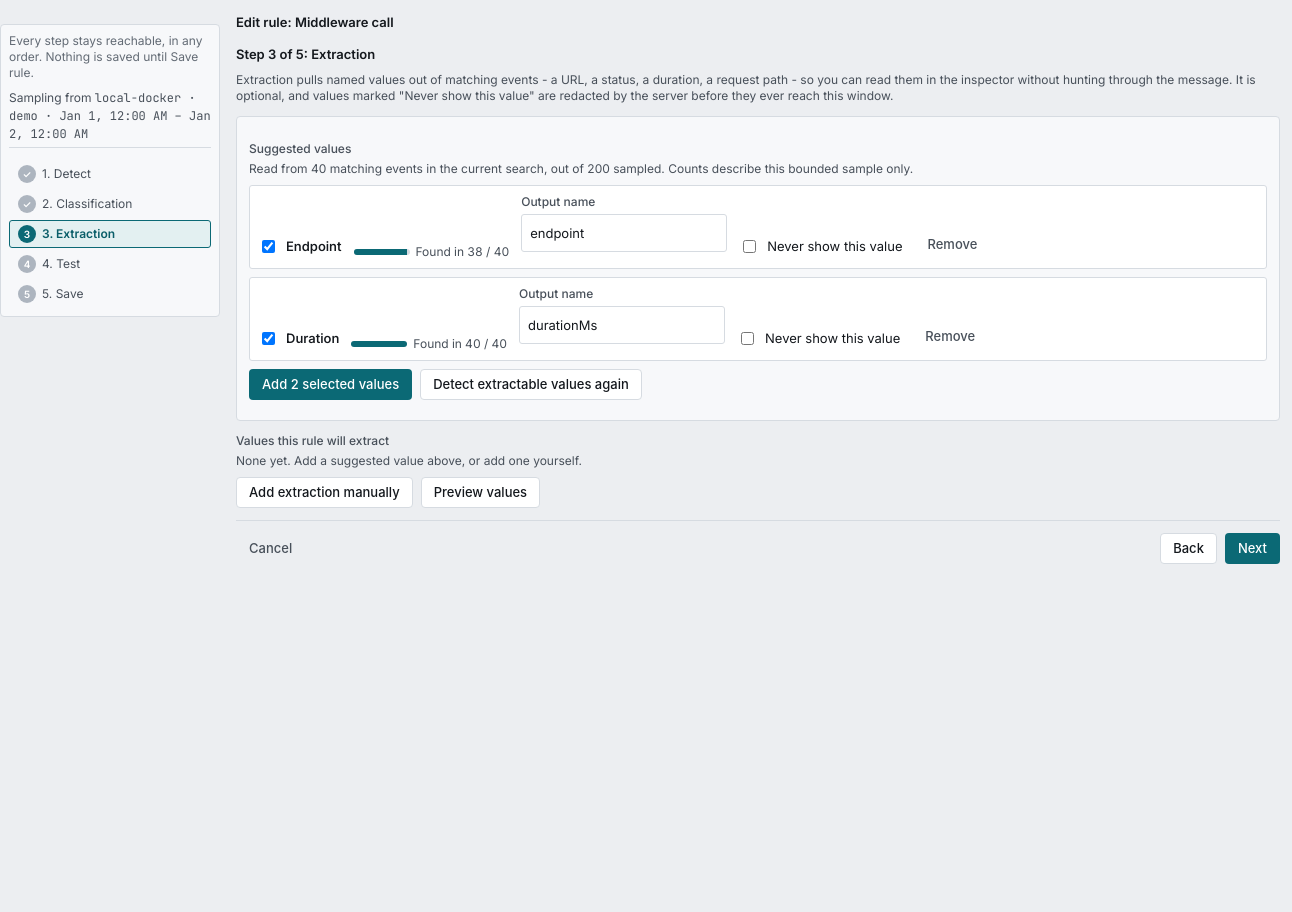
Test case: RuleEditor - assisted extraction: the suggestion list › accepting a suggestion UNRENAMED does show "(confirmed)" - the server already compiled exactly this definition before offering it
The width and height of the screenshot is (1292, 912).
Step 1. Click the button "Add 2 selected values" → (331, 384), box [249, 369, 412, 400]
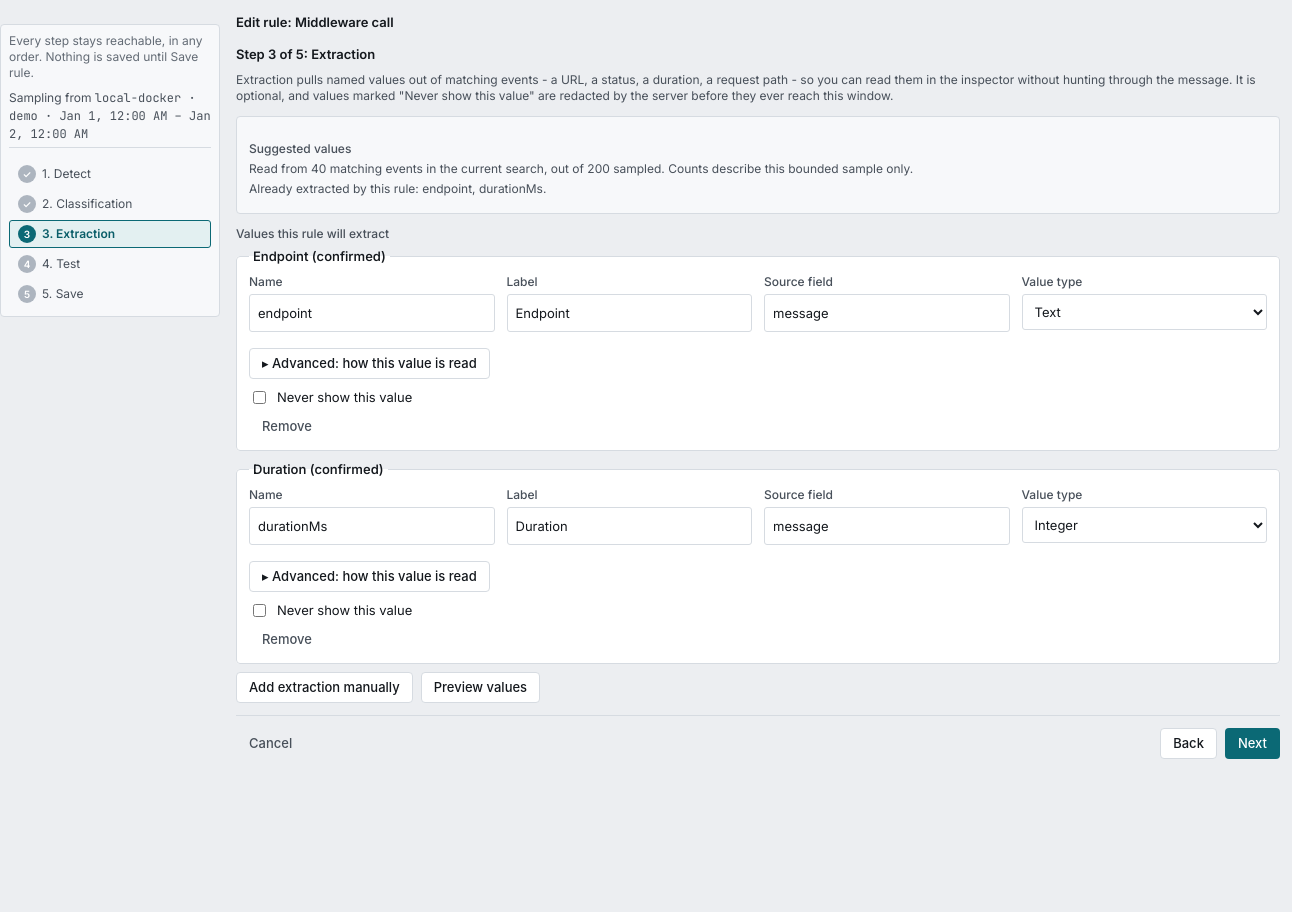
Result: the element "Endpoint (confirmed)" is shown at [236, 246, 1280, 451]
Result: the element "Duration (confirmed)" is shown at [236, 459, 1280, 664]
